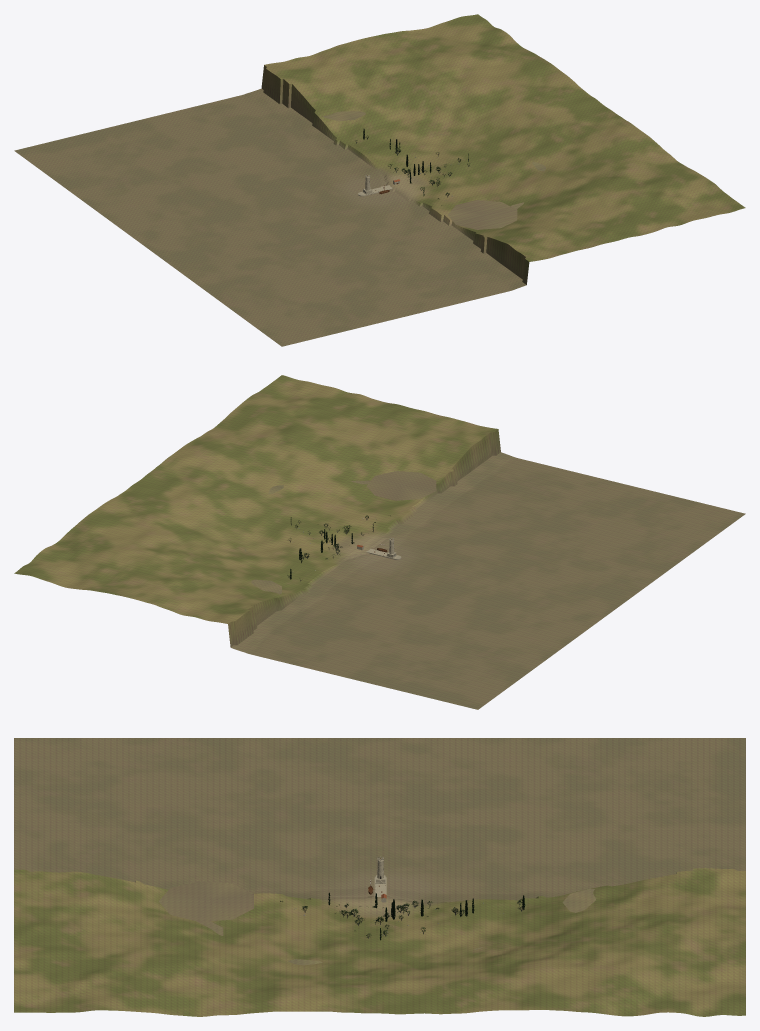
File: patara-deniz-feneri-baked.glb
The picture shows the model from 3 angles, top to bottom: view 1: azimuth 30°, elevation 25°; view 2: azimuth 150°, elevation 25°; view 3: azimuth 270°, elevation 25°; orthographic projection. The views are drawn at different scales.
Visible parts, largest first — view 1: patara-deniz-feneri-terrain, patara-deniz-feneri-near, patara-deniz-feneri-flora; view 2: patara-deniz-feneri-terrain, patara-deniz-feneri-near; view 3: patara-deniz-feneri-terrain, patara-deniz-feneri-near, patara-deniz-feneri-flora.
Boxes of the visible parts, x1=… form: patara-deniz-feneri-terrain: x1=14, y1=14, x2=745, y2=346; patara-deniz-feneri-near: x1=323, y1=111, x2=545, y2=229; patara-deniz-feneri-flora: x1=355, y1=129, x2=469, y2=205; patara-deniz-feneri-terrain: x1=14, y1=375, x2=745, y2=709; patara-deniz-feneri-near: x1=244, y1=471, x2=436, y2=594; patara-deniz-feneri-terrain: x1=14, y1=738, x2=745, y2=1016; patara-deniz-feneri-near: x1=159, y1=856, x2=595, y2=965; patara-deniz-feneri-flora: x1=280, y1=892, x2=525, y2=940.
Size of what is drawn, in the model's own units: 605 by 35.21 by 605.
16 materials, 11 textured.
